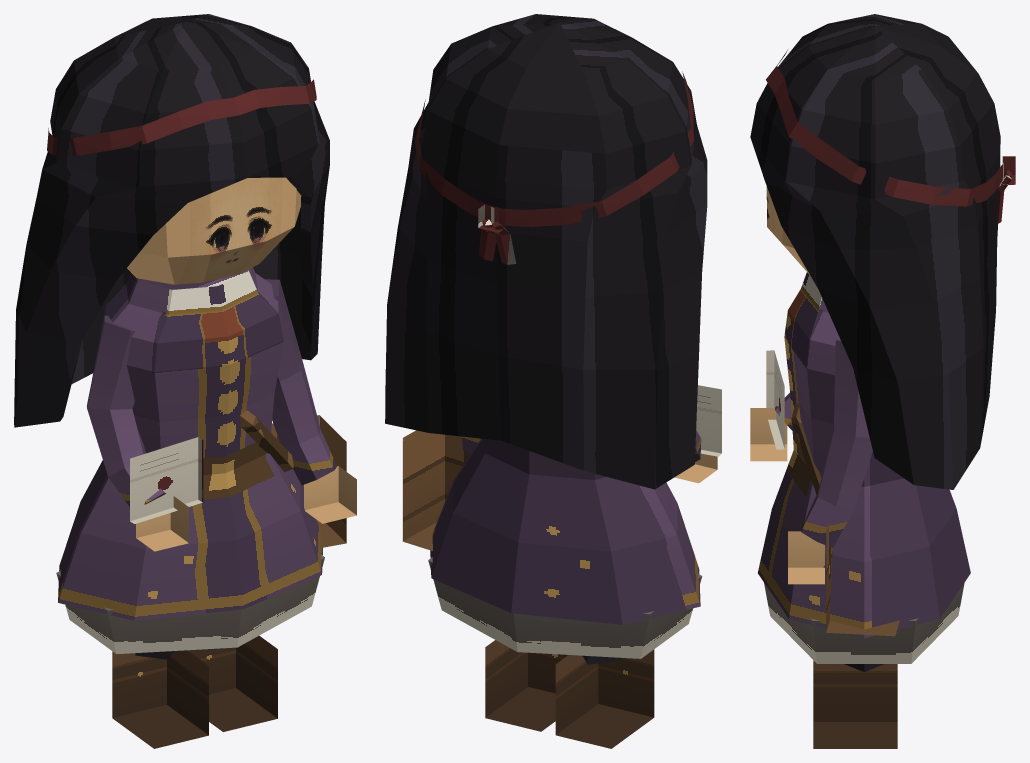
Rendered from postmaster-v06.glb.
3 renders of one model, left to right at view 1: azimuth 30°, elevation 25°; view 2: azimuth 150°, elevation 25°; view 3: azimuth 270°, elevation 25°, orthographic.
Visible parts, largest first — view 1: postmaster; view 2: postmaster; view 3: postmaster.
Part boxes in pixels (box(x1,y1,x2,y2)): postmaster: box(14, 14, 356, 748); postmaster: box(385, 14, 721, 748); postmaster: box(750, 14, 1015, 748).
Bounding box in the file's own units: 1.19 × 2.58 × 0.8957.
2 materials, 2 textured.
